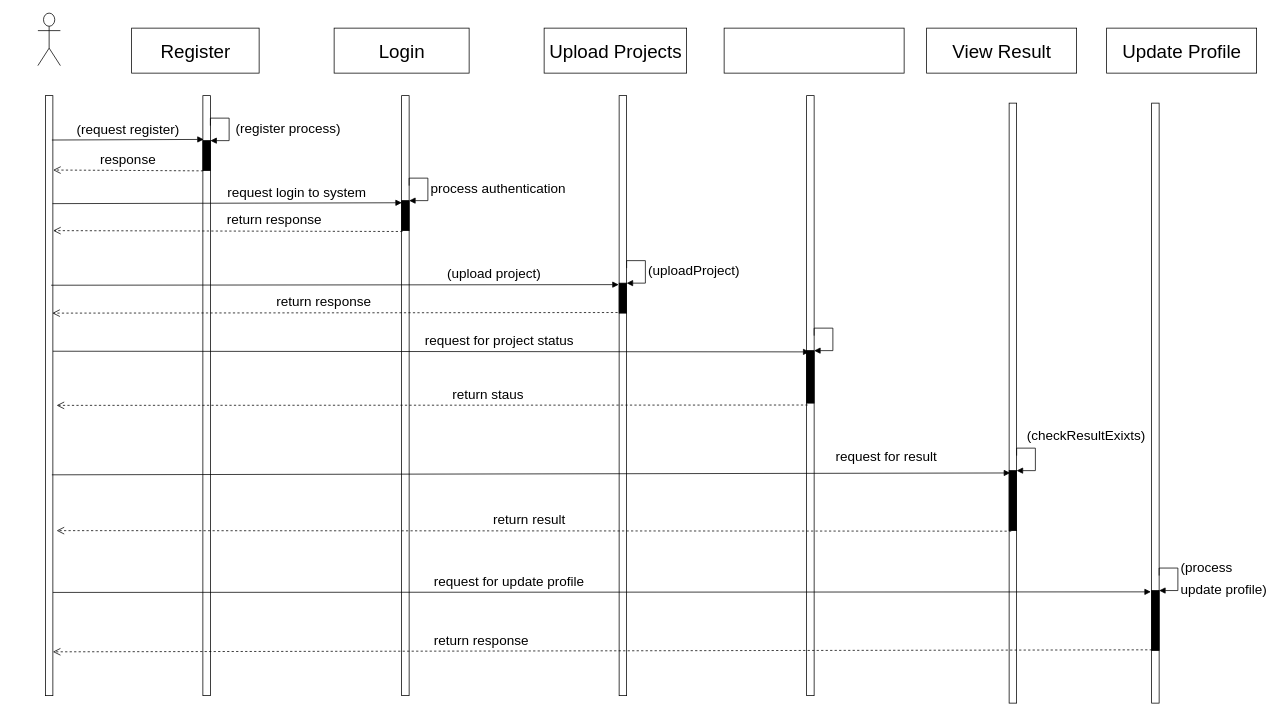
The diagram is 1280 pixels wide and 716 high, and some of its shapes have lost their labels. Here are the shapes that lost their labels. From the top down, the centre of each, then its label:
At (x=48, y=39): "Exhibitor".
At (x=813, y=50): "View Project Status".
